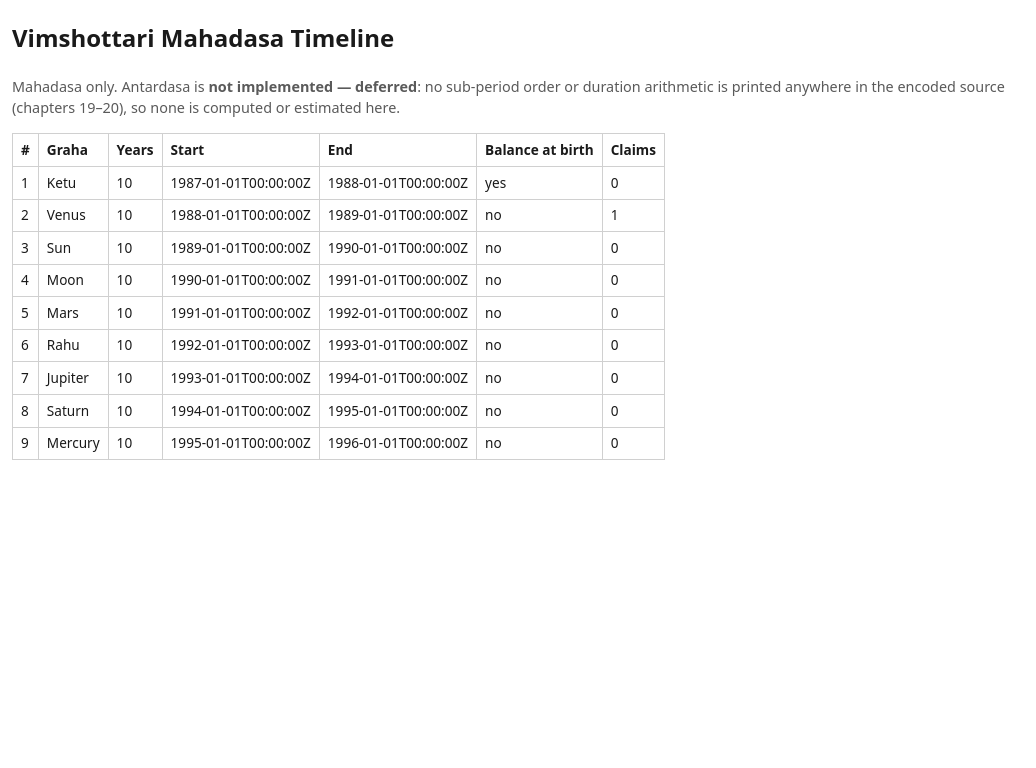
Test case: DasaTimeline › shows no-claims message for a period with none attached
Click the text "Ketu" at x=73, y=183, box [38, 166, 108, 199]
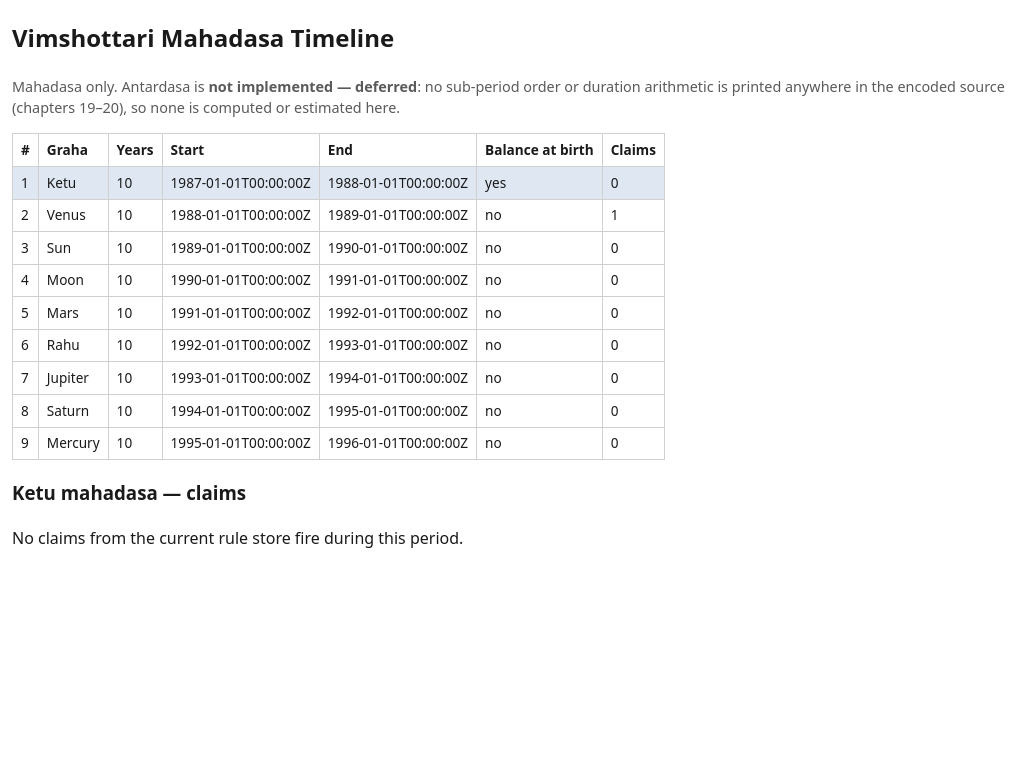
Expected: the text "No claims from the current rule store fire" is shown, [12, 527, 463, 549]
